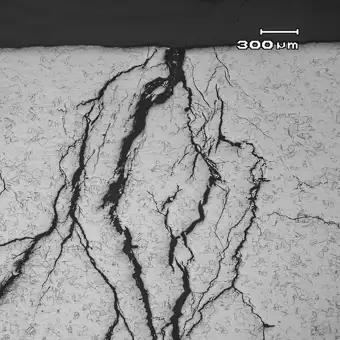Crack: (0, 44, 283, 337)
